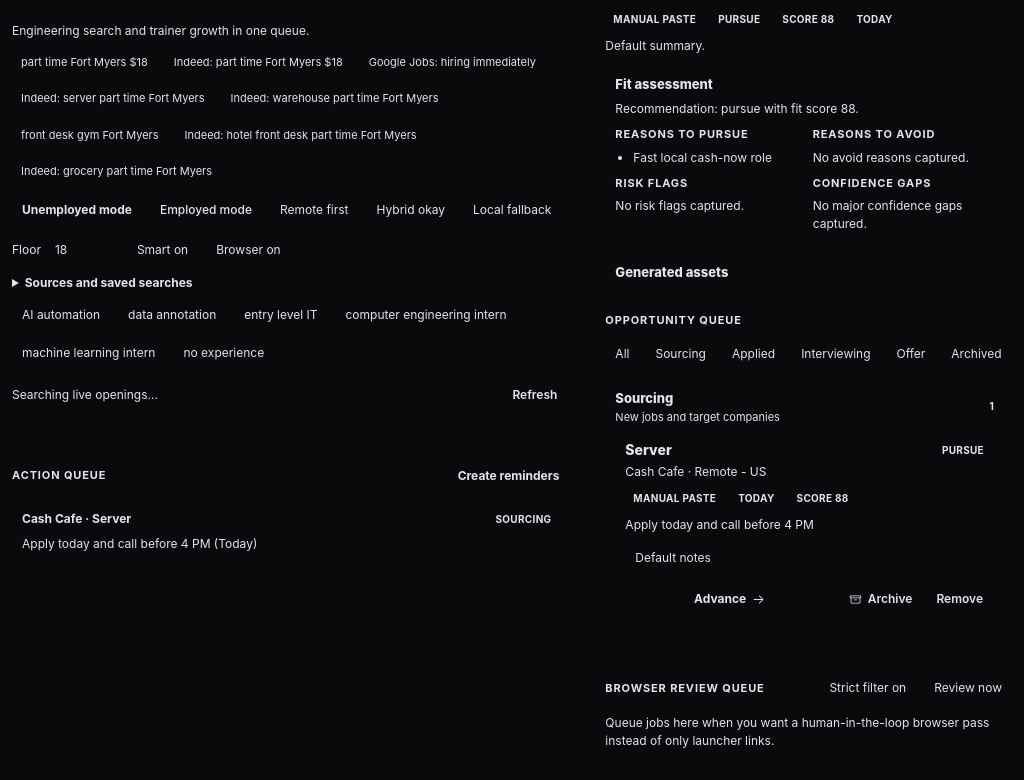
Scenario: CareerOpsPage › creates real follow-up reminders from due Career Ops actions
This screenshot has width=1024, height=780.
(page scrolled)
Expected: the text "Action queue" is shown, x1=12 y1=468 x2=106 y2=484
Click the button "Create reminders".
click(508, 476)  # box x1=448 y1=460 x2=569 y2=492
(page scrolled)
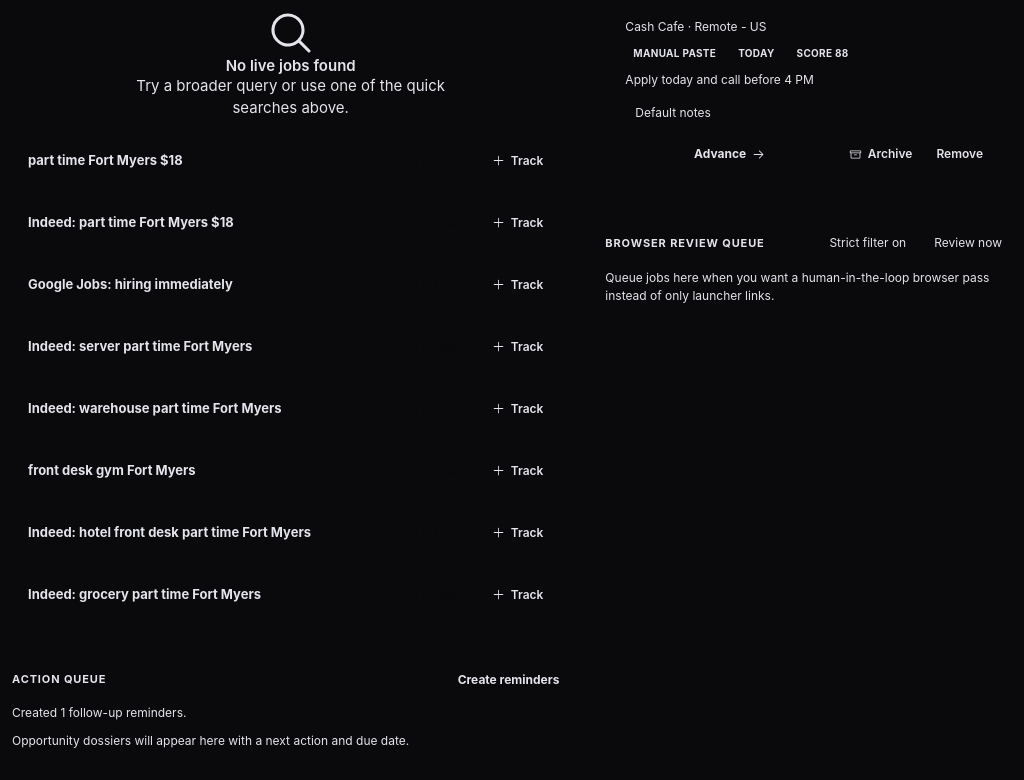
Result: the text "Created 1 follow-up reminders." is shown at x1=12 y1=705 x2=186 y2=720
